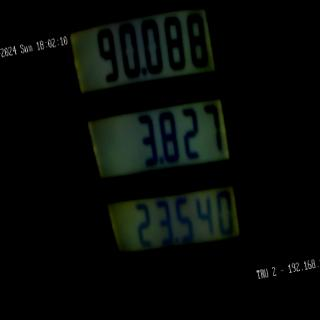screen: (60, 0, 264, 299)
